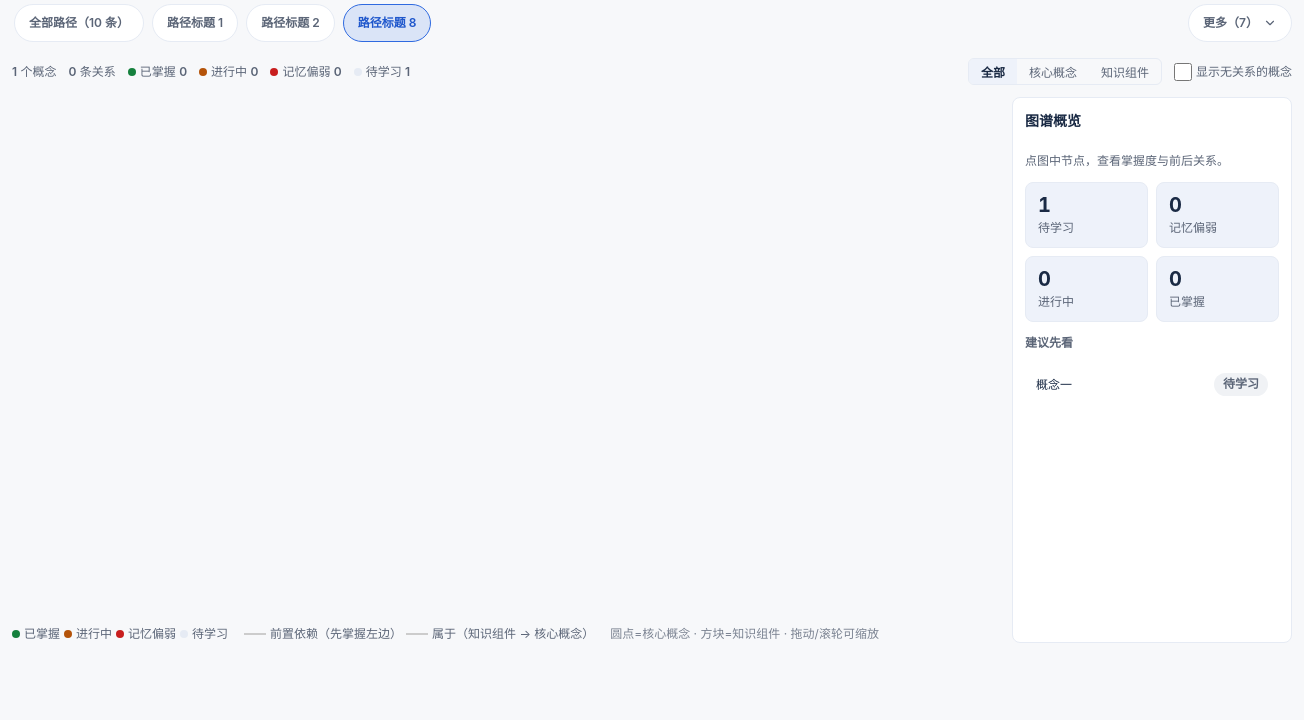
MkGraphExplorer 路径轨的有界化 › 选中项不在前 3 条时被钉进轨上，且不重复出现在「更多」里
This screenshot has width=1304, height=720.
Step 1. Click the button with class "mk-ge__chip--more" → (1240, 23), box [1188,4,1292,42]
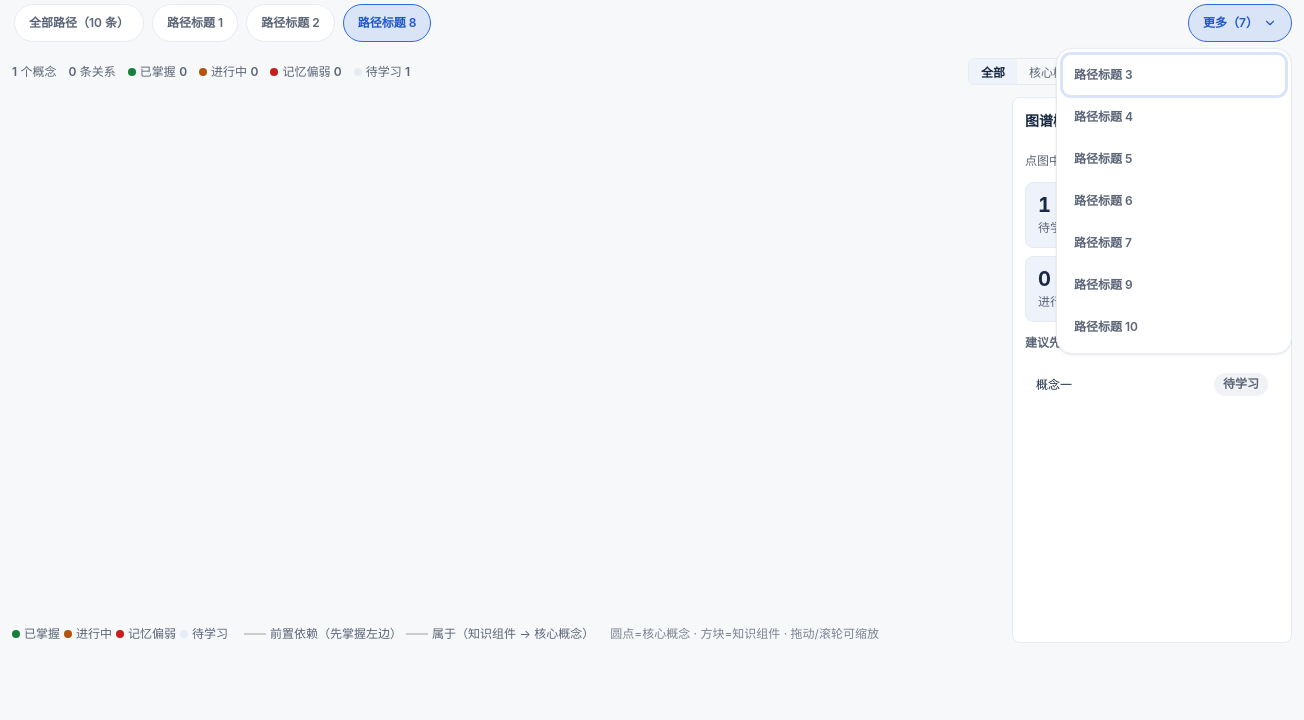
Expected: the element with class "mk-ge__more-item" does not show "路径标题 8"
Now the number of menu items with class "mk-ge__more-item" is 7
